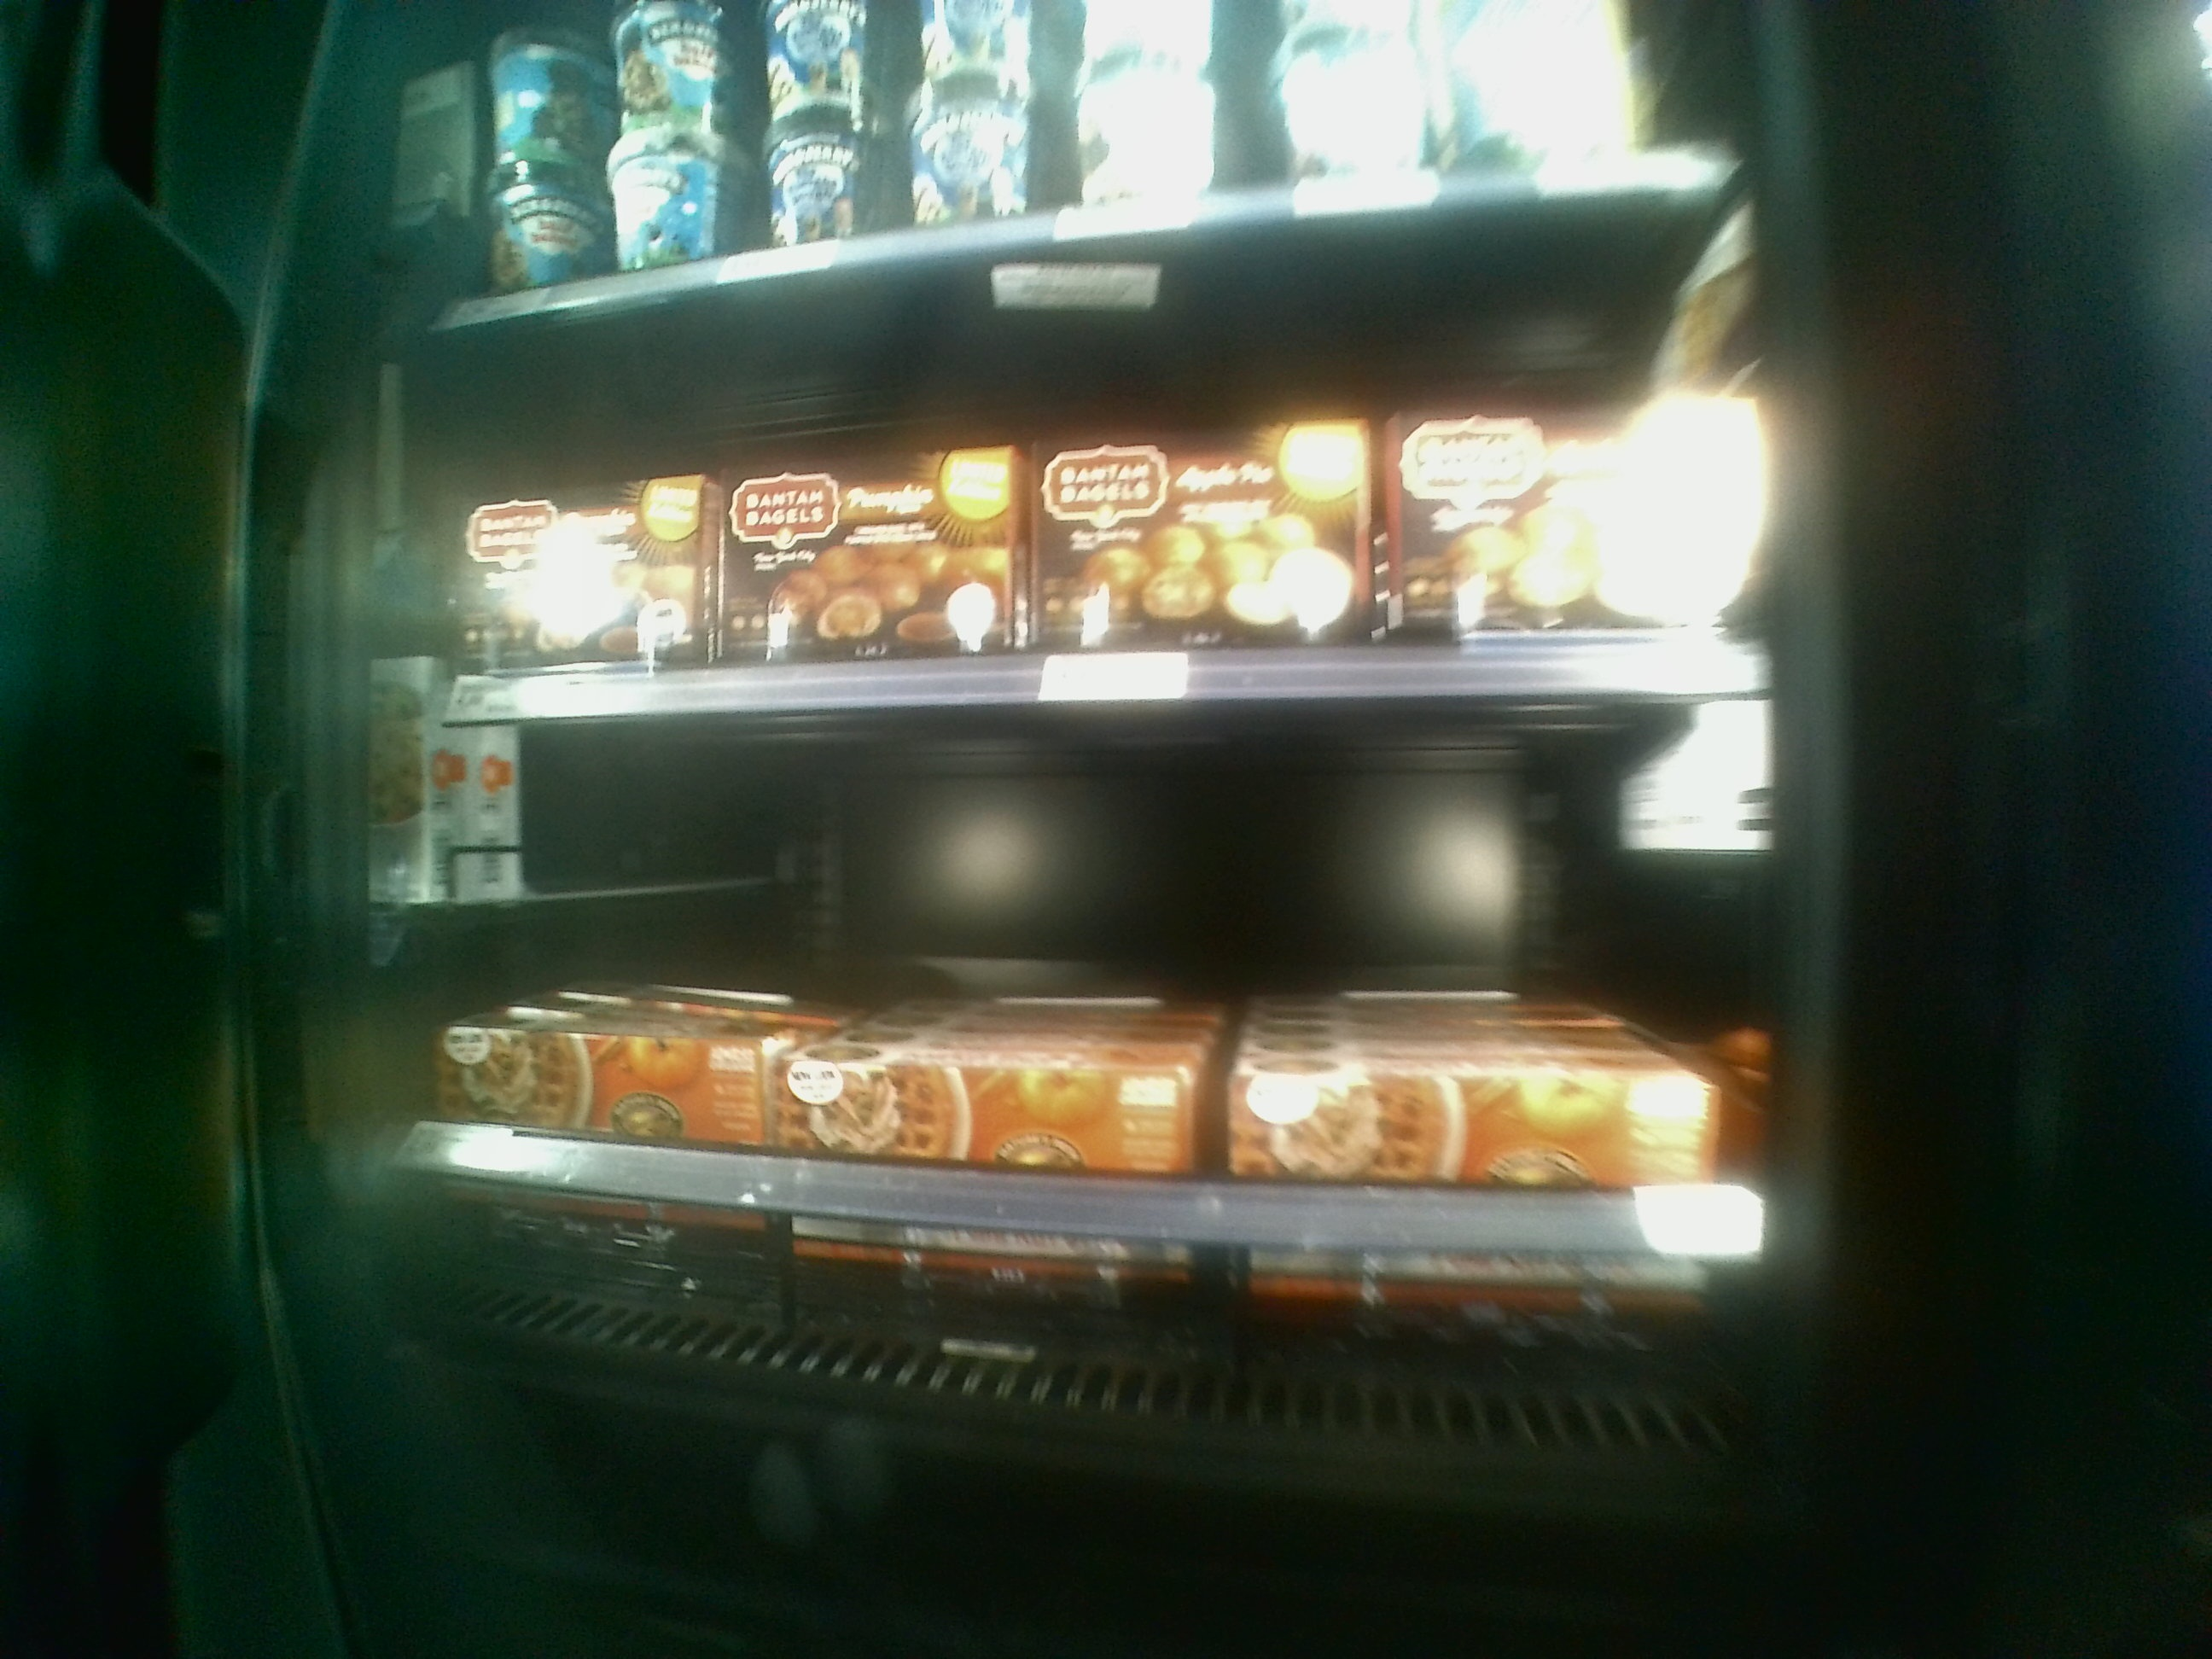shelf: (374, 690, 1796, 1443), (387, 291, 1792, 716)
